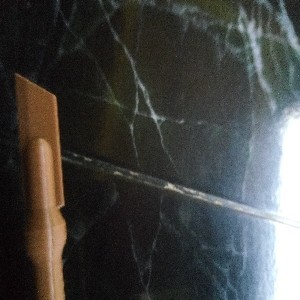cutter: (12, 71, 68, 300)
